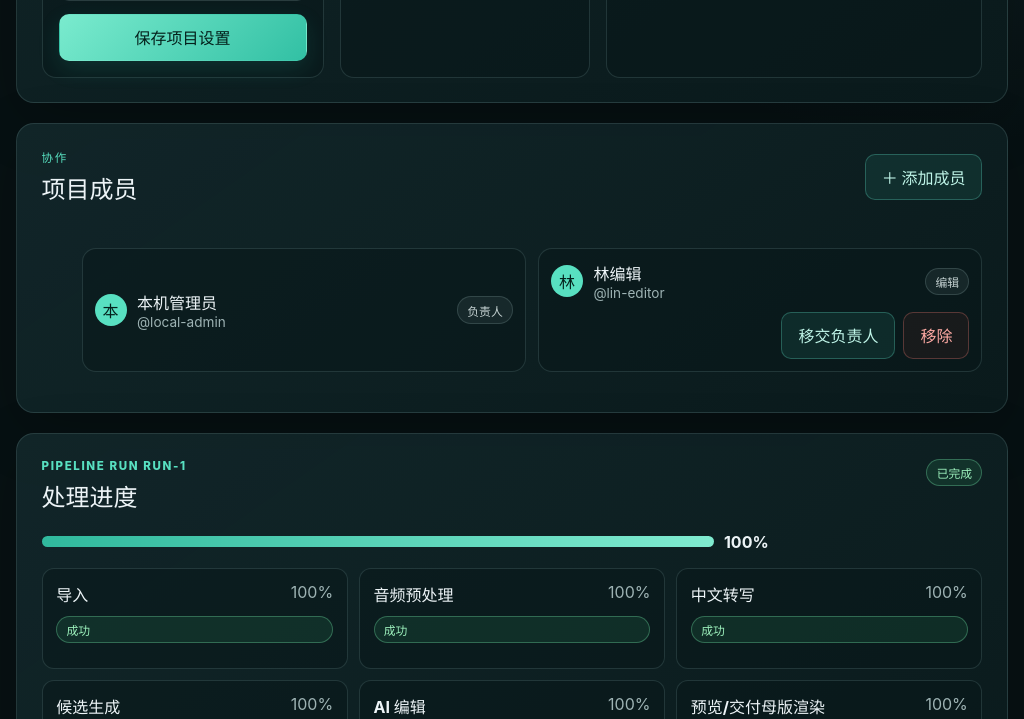
Scenario: requires an explicit confirmation before transferring project ownership
(page scrolled)
Click the button "移交负责人" at (838, 335), box [781,312,895,359]
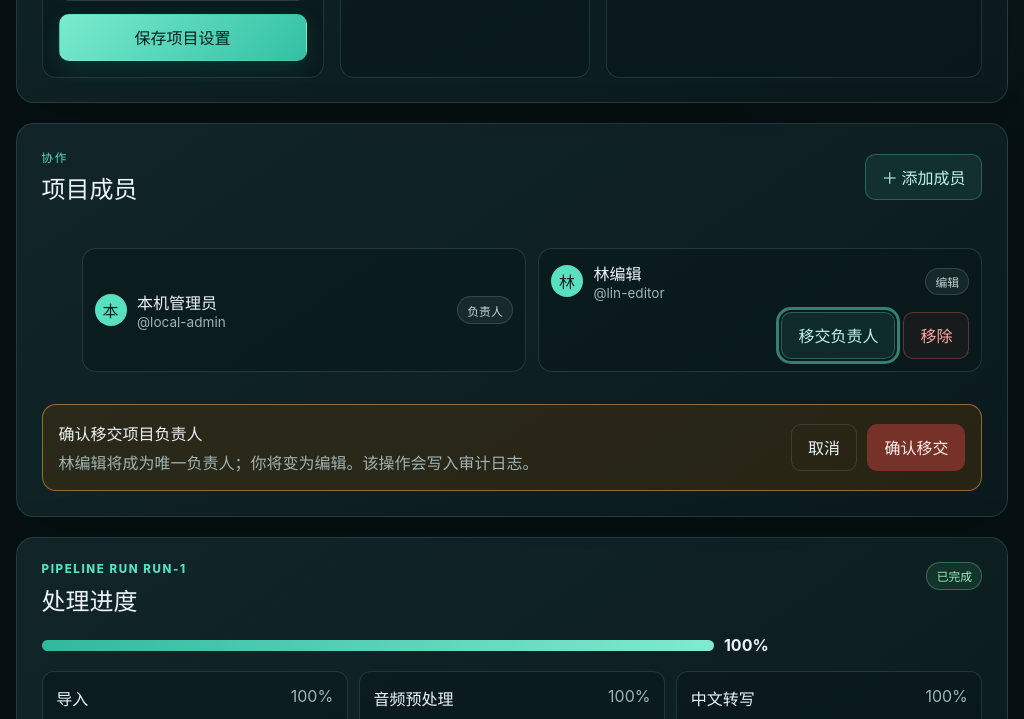
Check: the dialog "确认移交项目负责人" shows "你将变为编辑", box [107,453,539,473]
Click the button "确认移交" at (916, 447), box [867,424,965,471]
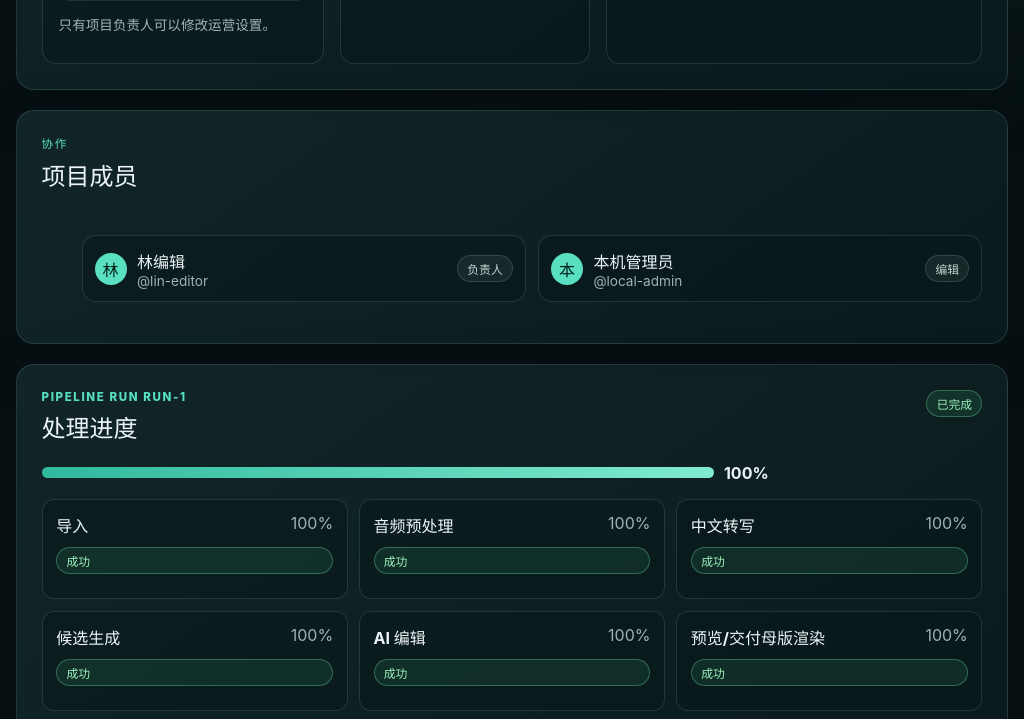
Check: the button "＋ 添加成员" is gone
